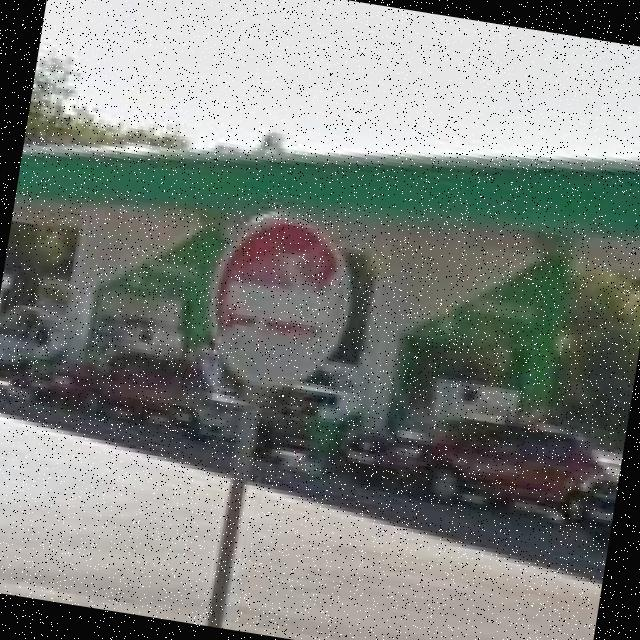Zakaz wjazdu: (198, 205, 362, 402)
